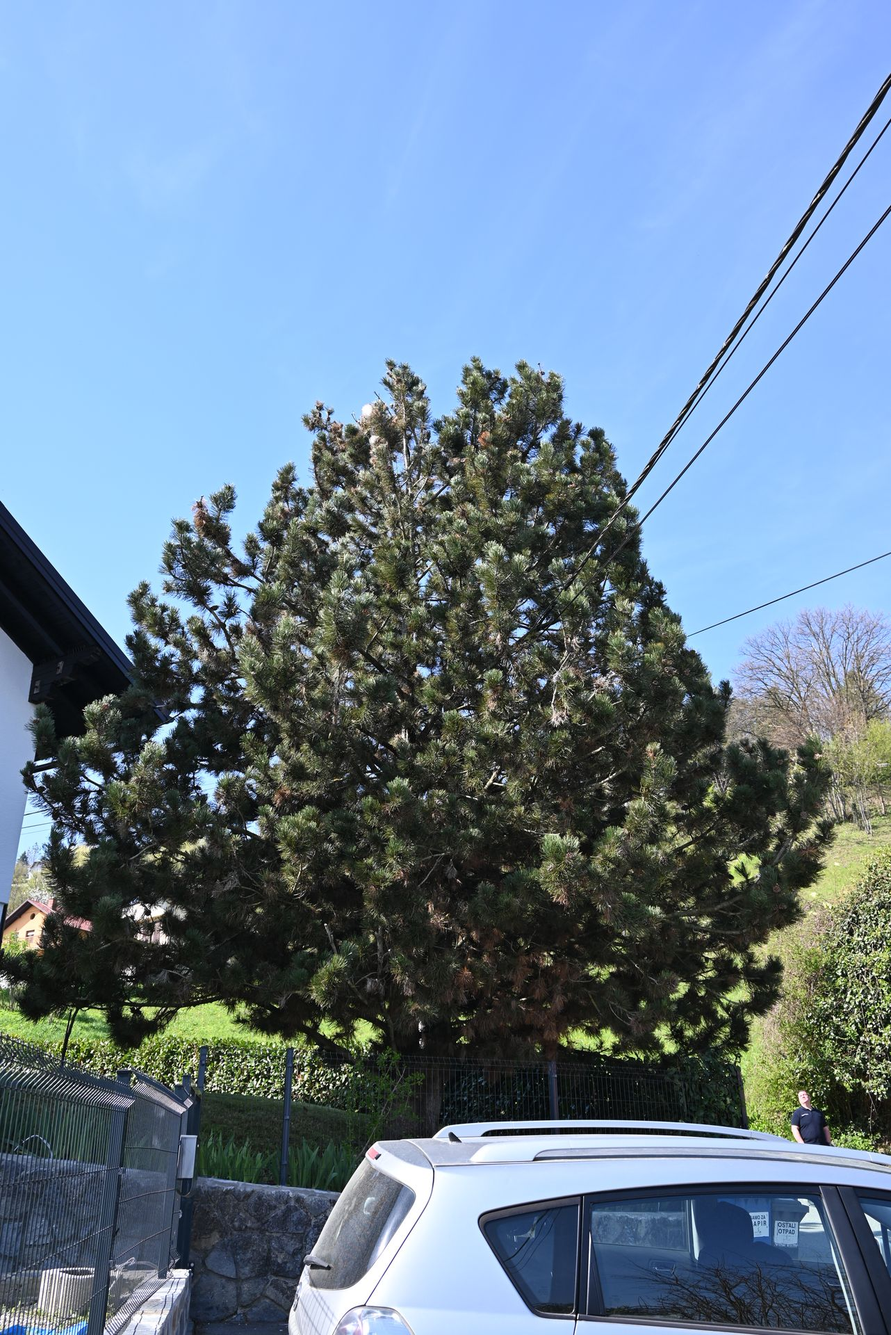thaumatopoea pityocampa jajno gnijezdo: (355, 399, 382, 426), (366, 431, 386, 455)
